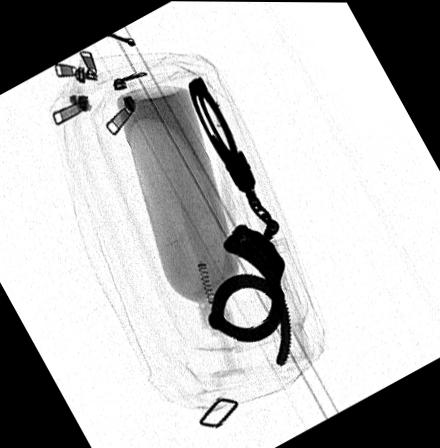HandCuffs: (188, 75, 292, 365)
